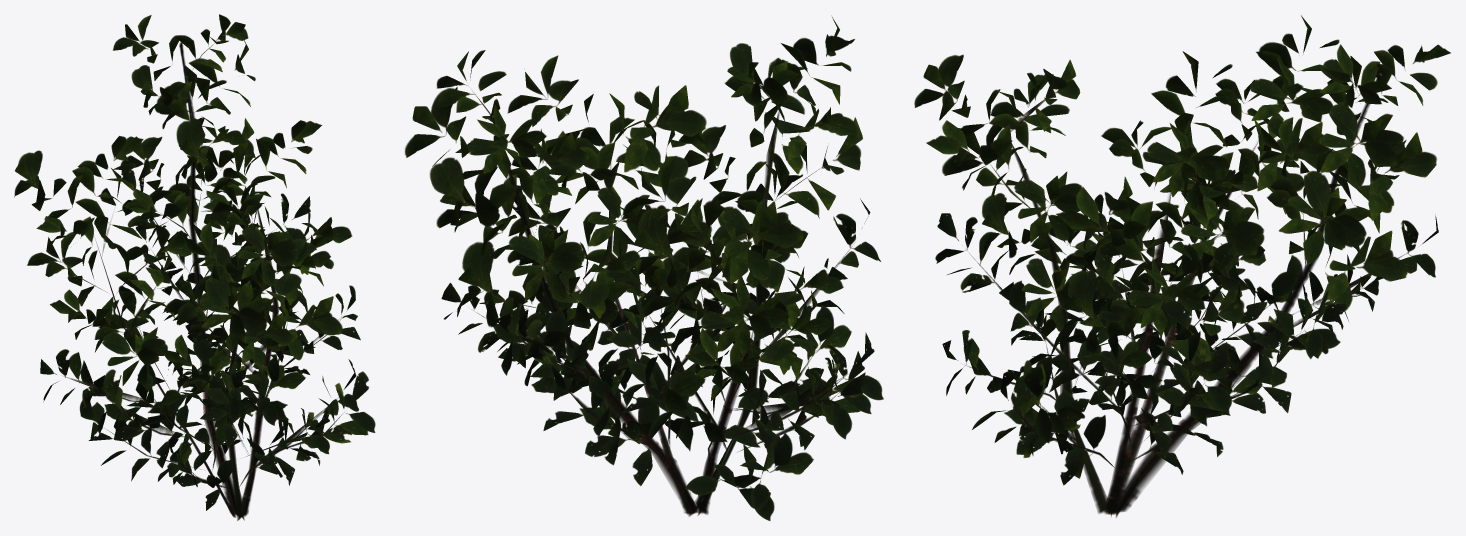
Rendered from veg-36.glb.
3 views of the same model, side by side, from view 1: azimuth 30°, elevation 25°; view 2: azimuth 150°, elevation 25°; view 3: azimuth 270°, elevation 25° (orthographic). The views are drawn at different scales.
Visible parts, largest first — view 1: _xpdk_VarI_LOD2_36; view 2: _xpdk_VarI_LOD2_36; view 3: _xpdk_VarI_LOD2_36.
Boxes of the visible parts, x1,y1,x2,y2 form: _xpdk_VarI_LOD2_36: [14, 14, 375, 520]; _xpdk_VarI_LOD2_36: [404, 15, 883, 520]; _xpdk_VarI_LOD2_36: [914, 15, 1450, 517].
Size of the model in its own units: 0.5095 by 0.7145 by 0.6736.
1 material, 1 textured.
